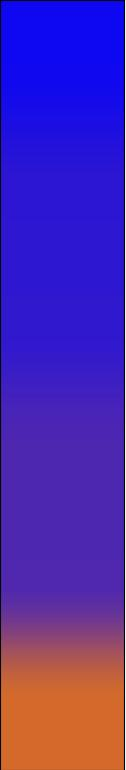critical: (6, 663, 120, 766), (5, 586, 121, 656)
safe: (5, 5, 119, 437), (6, 446, 119, 579)
